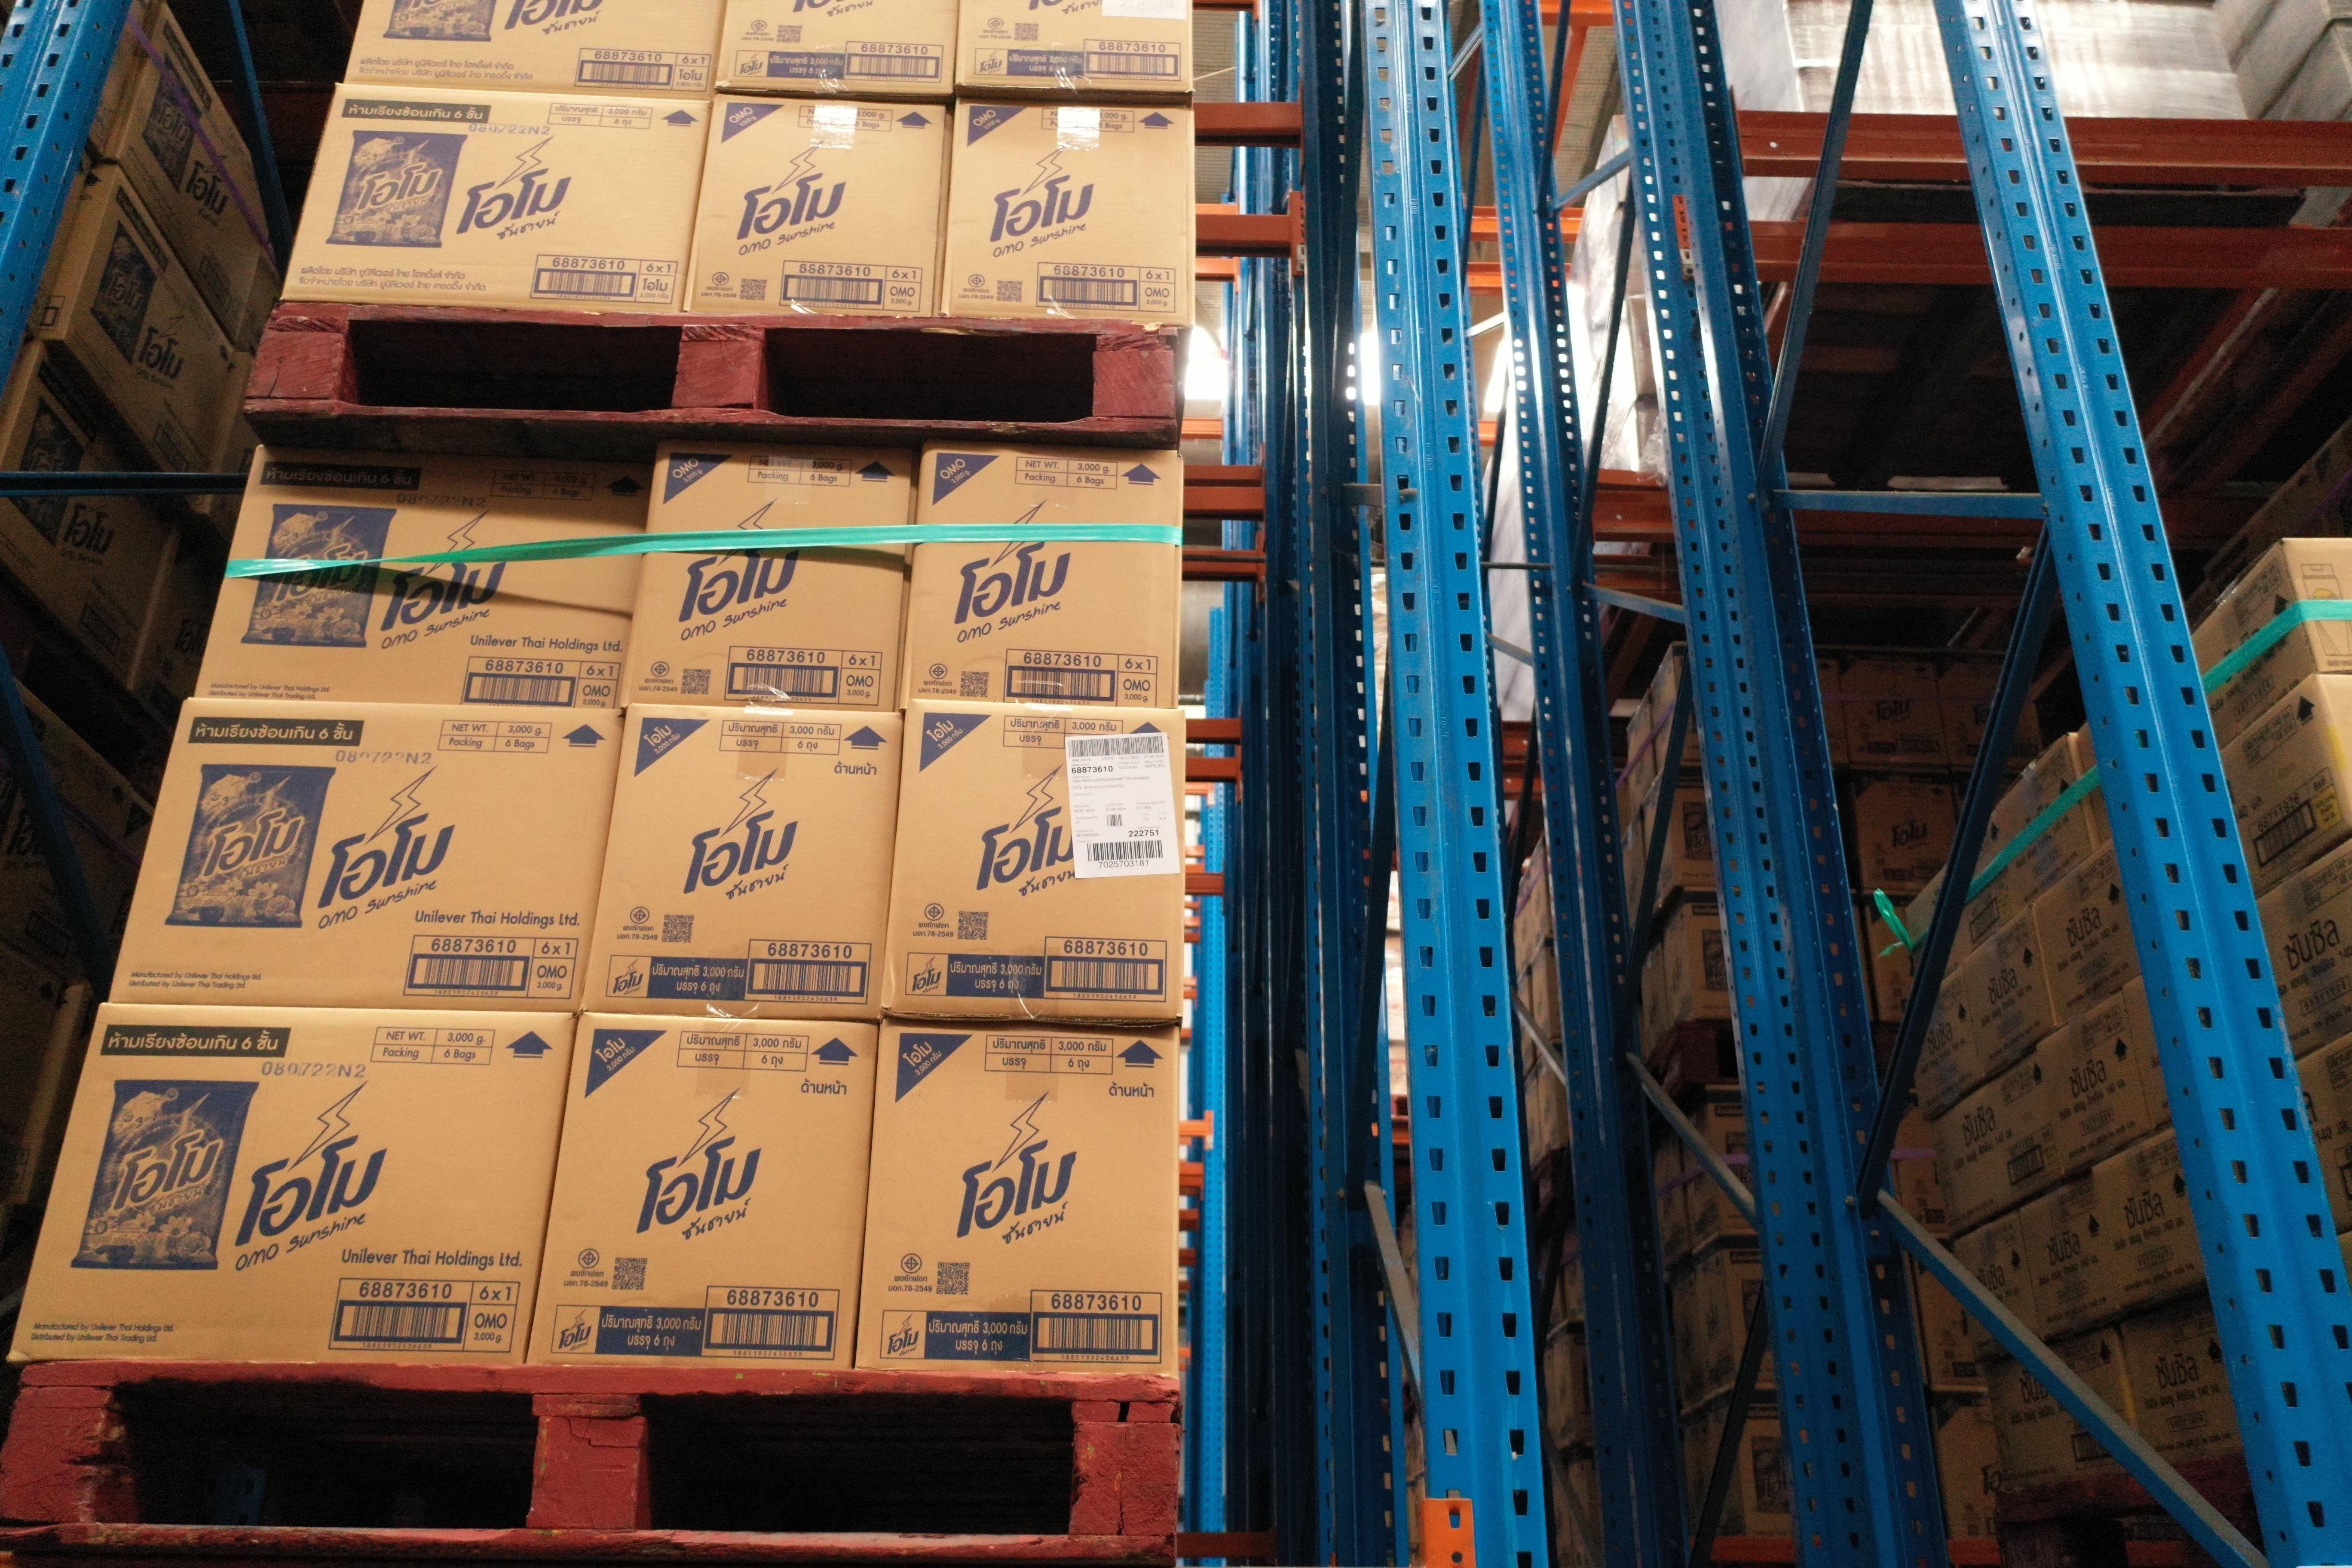-: (7, 1001, 574, 1363), (107, 696, 625, 1015), (527, 1008, 884, 1368), (194, 441, 658, 709), (850, 1025, 1179, 1379), (577, 705, 906, 1024), (280, 82, 709, 317), (884, 705, 1188, 1025), (614, 444, 922, 710), (903, 453, 1186, 709), (679, 91, 948, 320), (941, 96, 1195, 329)
